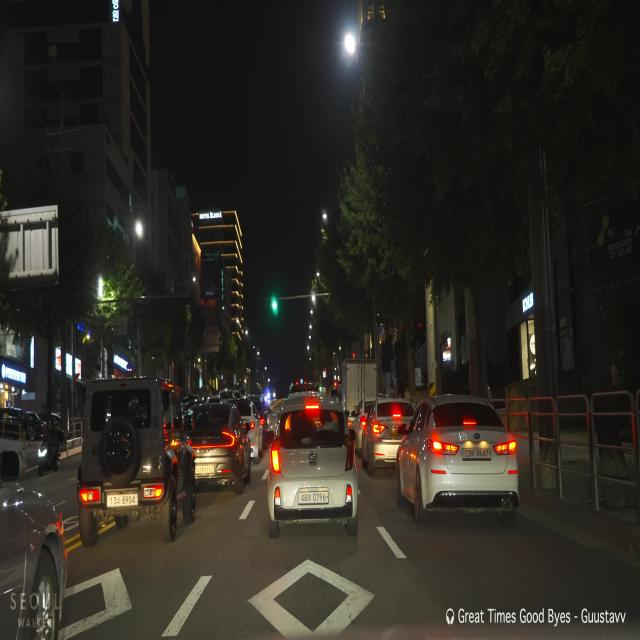Green Light: (272, 301, 277, 311)
